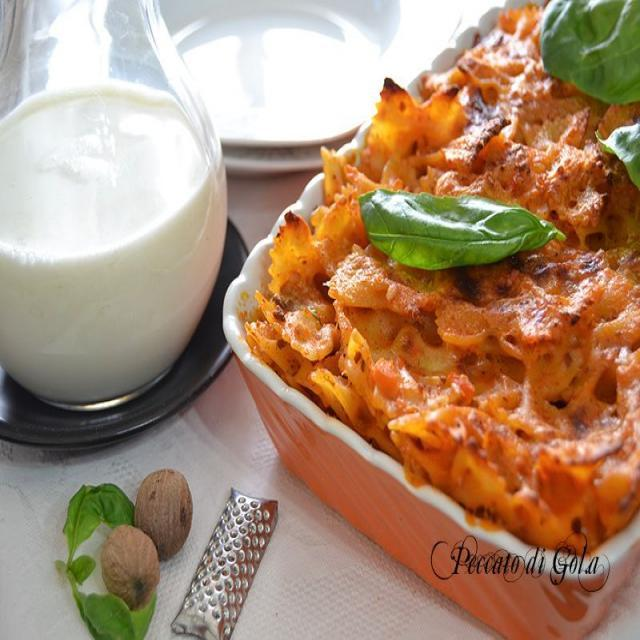Pasta al ragu: (277, 30, 640, 490)
